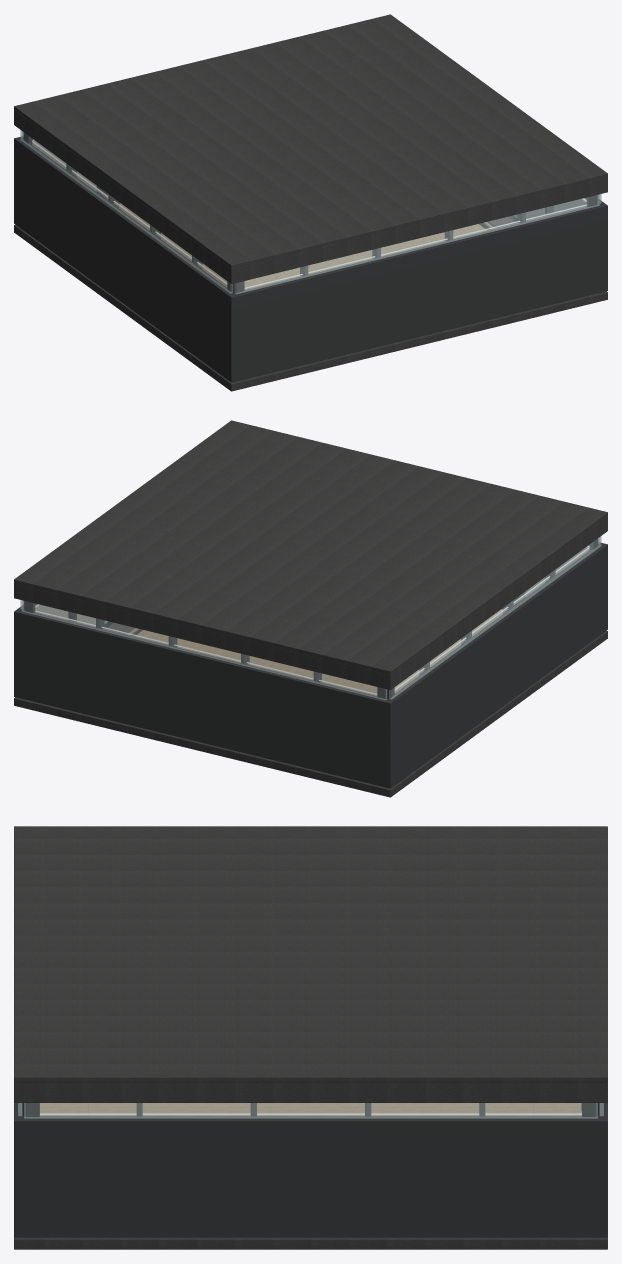
File: contemporary-dojo.glb
3 views of the same model, one above another, from view 1: azimuth 30°, elevation 25°; view 2: azimuth 150°, elevation 25°; view 3: azimuth 270°, elevation 25° (orthographic). The views are drawn at different scales.
Parts seen in each view (by area): view 1: contemporary-dojo / Dojo / graphite anodized frame, contemporary-dojo / Dojo / soft dark expansion joints, contemporary-dojo / Dojo / frosted clerestory, contemporary-dojo / Dojo / pale oak grain, contemporary-dojo / Dojo / warm opal light channels, contemporary-dojo / Dojo / acoustic mineral panels, contemporary-dojo / Dojo / brushed champagne details; view 2: contemporary-dojo / Dojo / graphite anodized frame, contemporary-dojo / Dojo / soft dark expansion joints, contemporary-dojo / Dojo / frosted clerestory, contemporary-dojo / Dojo / pale oak grain, contemporary-dojo / Dojo / warm opal light channels, contemporary-dojo / Dojo / acoustic mineral panels; view 3: contemporary-dojo / Dojo / graphite anodized frame, contemporary-dojo / Dojo / soft dark expansion joints, contemporary-dojo / Dojo / frosted clerestory, contemporary-dojo / Dojo / pale oak grain, contemporary-dojo / Dojo / warm opal light channels.
Boxes of the visible parts, x1,y1,x2,y2 form: contemporary-dojo / Dojo / graphite anodized frame: (14, 14, 607, 391); contemporary-dojo / Dojo / soft dark expansion joints: (14, 137, 607, 382); contemporary-dojo / Dojo / frosted clerestory: (20, 130, 601, 294); contemporary-dojo / Dojo / pale oak grain: (119, 203, 494, 289); contemporary-dojo / Dojo / warm opal light channels: (32, 140, 586, 288); contemporary-dojo / Dojo / acoustic mineral panels: (32, 141, 586, 220); contemporary-dojo / Dojo / brushed champagne details: (32, 141, 586, 289); contemporary-dojo / Dojo / graphite anodized frame: (14, 420, 607, 797); contemporary-dojo / Dojo / soft dark expansion joints: (14, 543, 607, 788); contemporary-dojo / Dojo / frosted clerestory: (20, 536, 601, 700); contemporary-dojo / Dojo / pale oak grain: (127, 609, 502, 695); contemporary-dojo / Dojo / warm opal light channels: (35, 546, 589, 694); contemporary-dojo / Dojo / acoustic mineral panels: (35, 547, 589, 626); contemporary-dojo / Dojo / graphite anodized frame: (14, 826, 607, 1249); contemporary-dojo / Dojo / soft dark expansion joints: (14, 1103, 607, 1237); contemporary-dojo / Dojo / frosted clerestory: (18, 1103, 603, 1118); contemporary-dojo / Dojo / pale oak grain: (40, 1103, 581, 1115); contemporary-dojo / Dojo / warm opal light channels: (40, 1113, 581, 1114).
Bounding box in the file's own units: 31.2 × 10 × 31.2.
9 materials, 4 textured.
